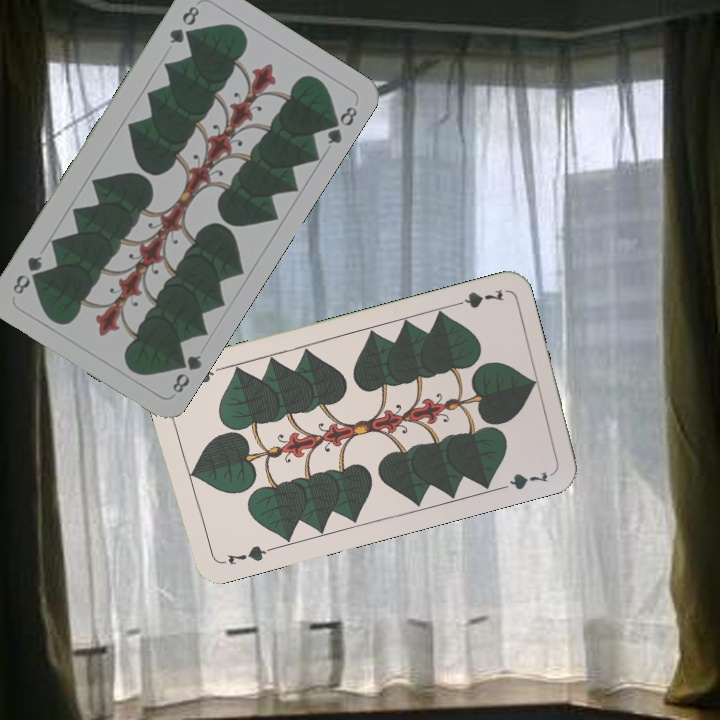G7: (447, 285, 506, 311), (223, 541, 274, 568)
G8: (168, 349, 205, 396), (165, 1, 202, 47)
